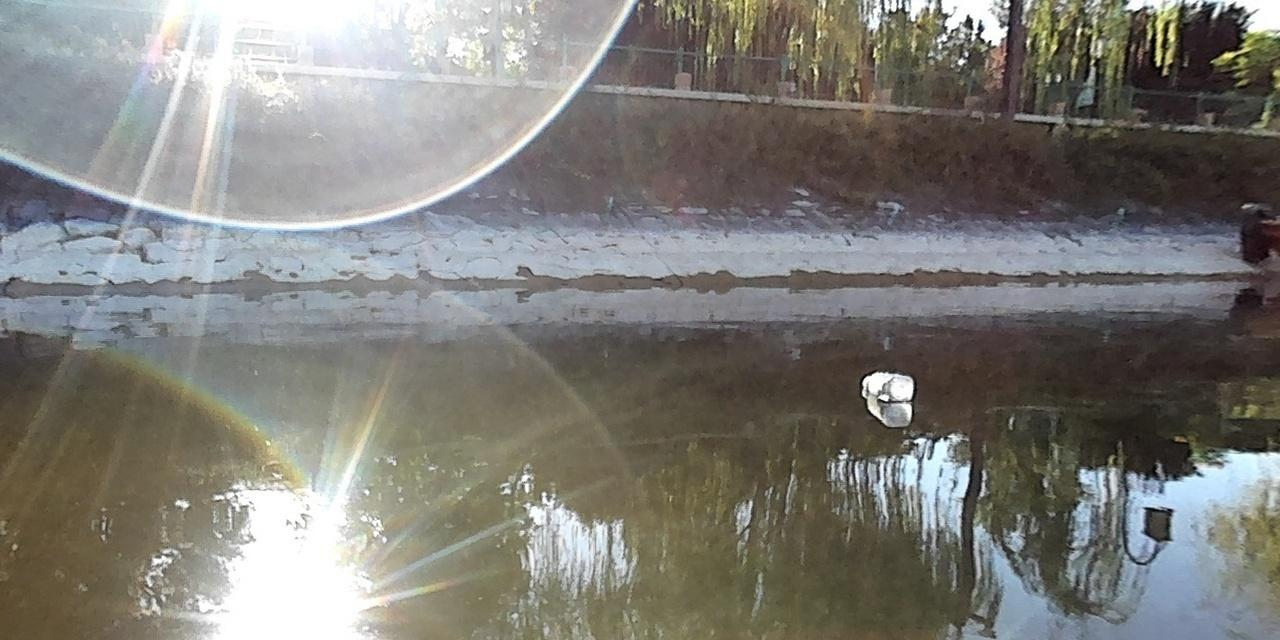bottle: (857, 365, 920, 407)
